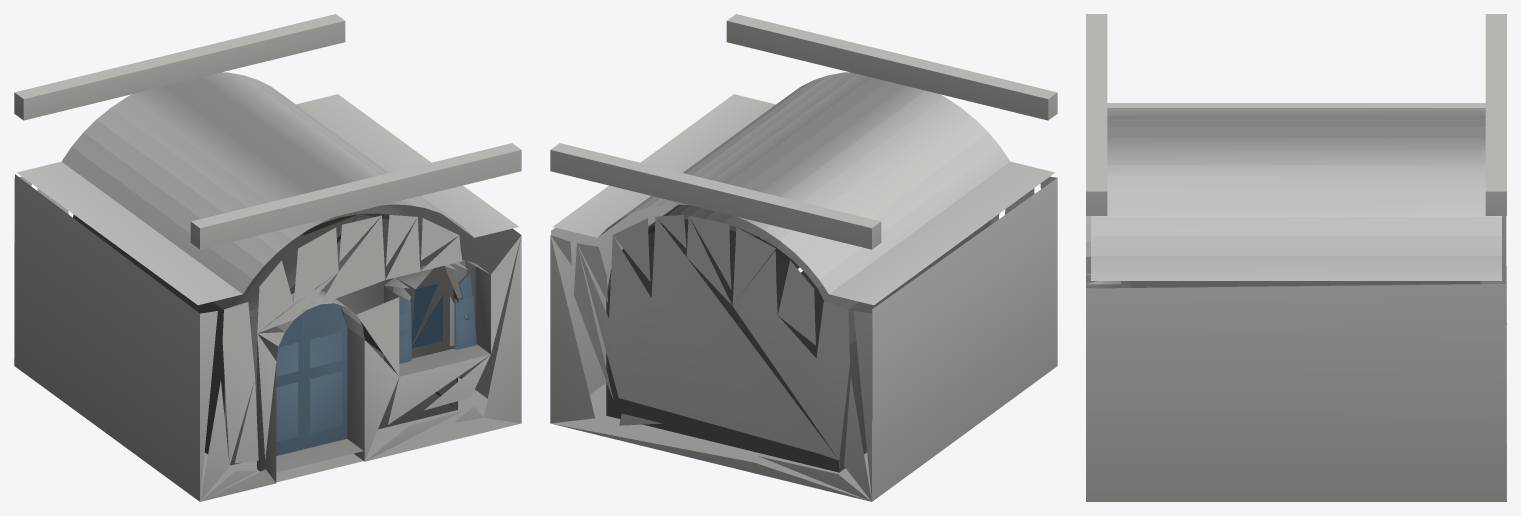
The model's file is cave1.lod.glb.
3 views of the same model, side by side, from view 1: azimuth 30°, elevation 25°; view 2: azimuth 150°, elevation 25°; view 3: azimuth 270°, elevation 25° (orthographic). The views are drawn at different scales.
Visible parts, largest first — view 1: cave1; view 2: cave1; view 3: cave1.
Part boxes in pixels (x1,y1,x2,y2): cave1: (14,14,521,501); cave1: (550,14,1057,501); cave1: (1086,14,1506,501).
Size of the model in its own units: 4.4 by 3.58 by 4.4.
